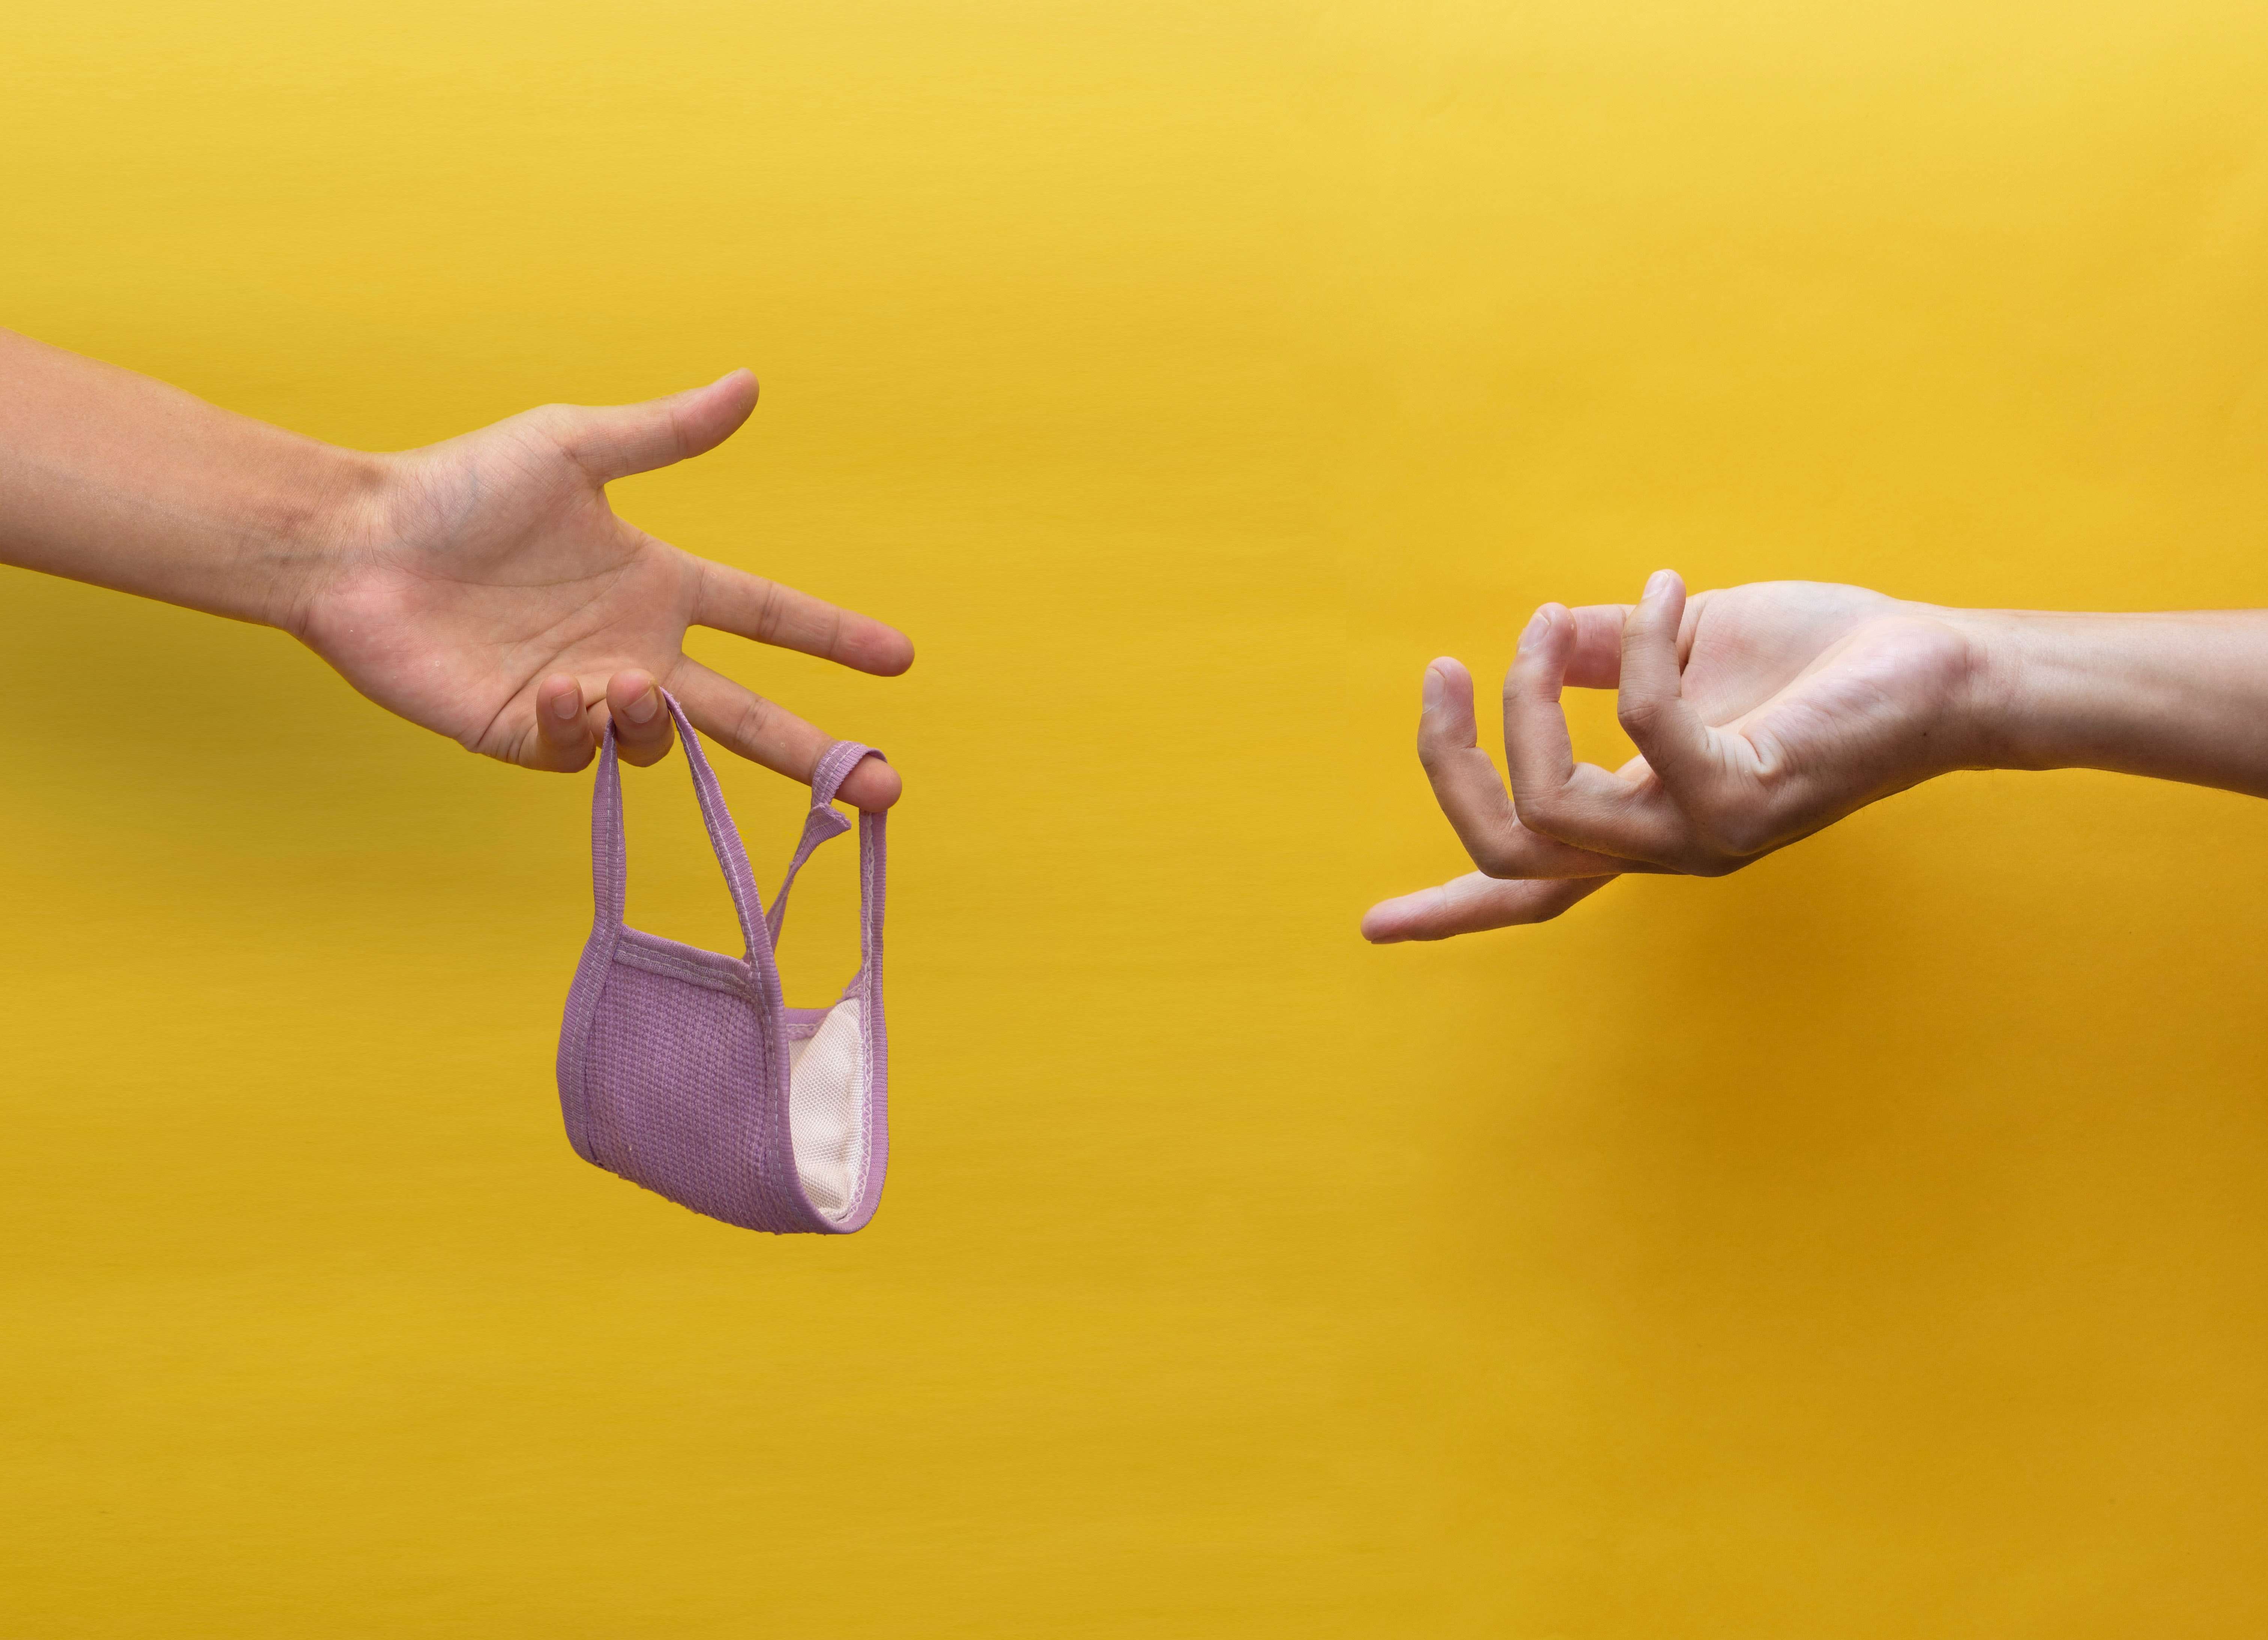mask: (528, 713, 919, 1251)
